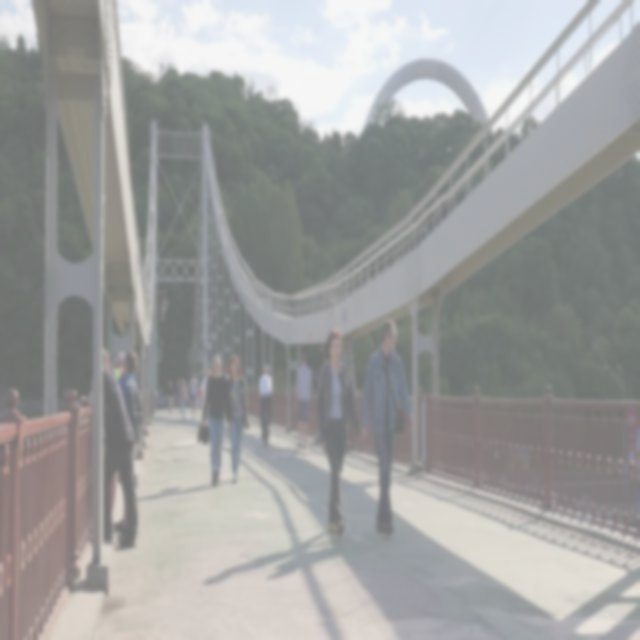pessoa: (361, 316, 416, 538), (86, 345, 139, 551), (316, 327, 364, 537), (108, 350, 138, 534), (206, 542, 326, 582), (200, 352, 230, 488), (225, 354, 249, 486), (294, 350, 312, 450), (491, 440, 534, 478), (258, 365, 272, 440), (628, 422, 640, 482), (200, 367, 212, 422), (188, 370, 200, 424), (178, 376, 189, 423), (174, 374, 184, 416), (109, 346, 122, 378), (166, 377, 174, 419), (152, 386, 166, 410), (225, 368, 230, 381), (266, 368, 272, 376)
